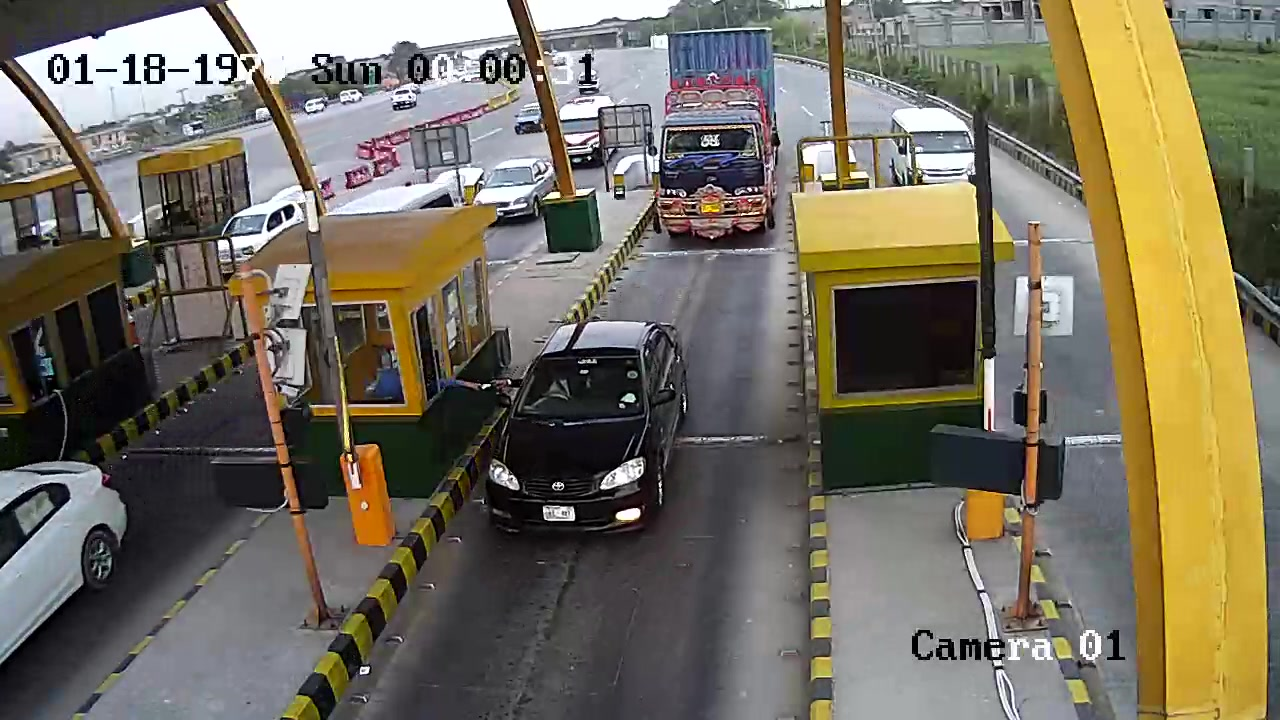F1: (466, 315, 710, 551)
